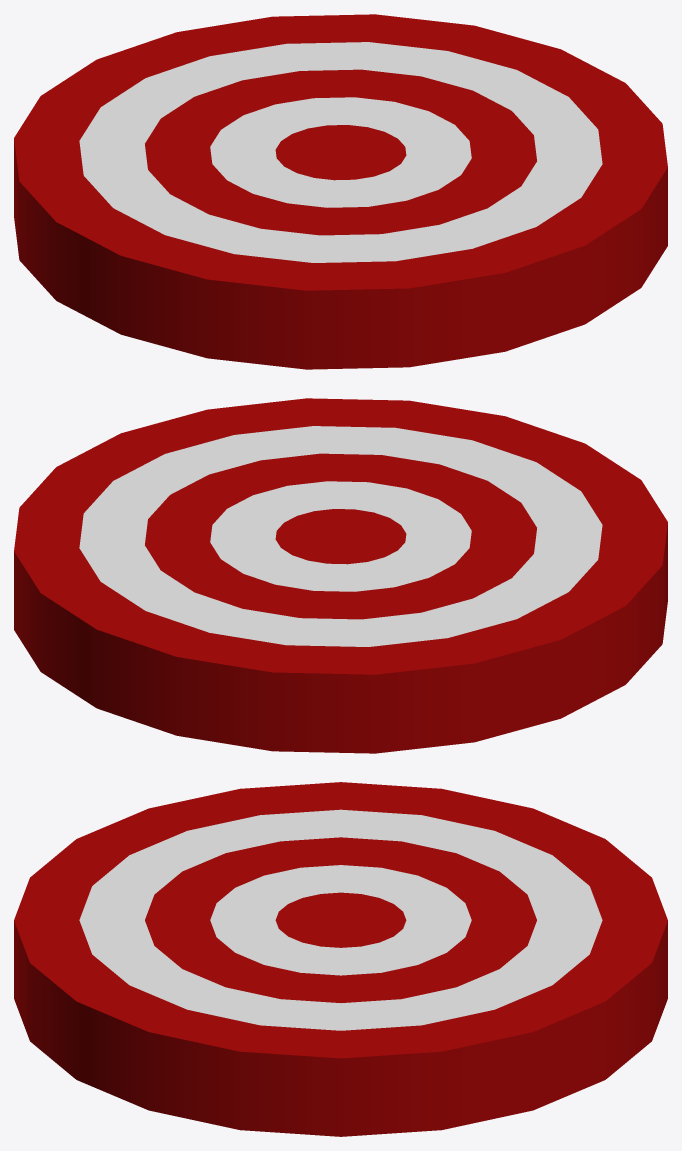
Rendered from SpiderTarget.fbx.
The picture shows the model from 3 angles, top to bottom: view 1: azimuth 30°, elevation 25°; view 2: azimuth 150°, elevation 25°; view 3: azimuth 270°, elevation 25°; orthographic projection.
Visible parts, largest first — view 1: pCylinder1; view 2: pCylinder1; view 3: pCylinder1.
Part boxes in pixels (x1,y1,x2,y2): pCylinder1: [14, 14, 667, 369]; pCylinder1: [14, 398, 667, 753]; pCylinder1: [14, 782, 667, 1136].
Size of the model in its own units: 9.04 by 1.2 by 9.04.
